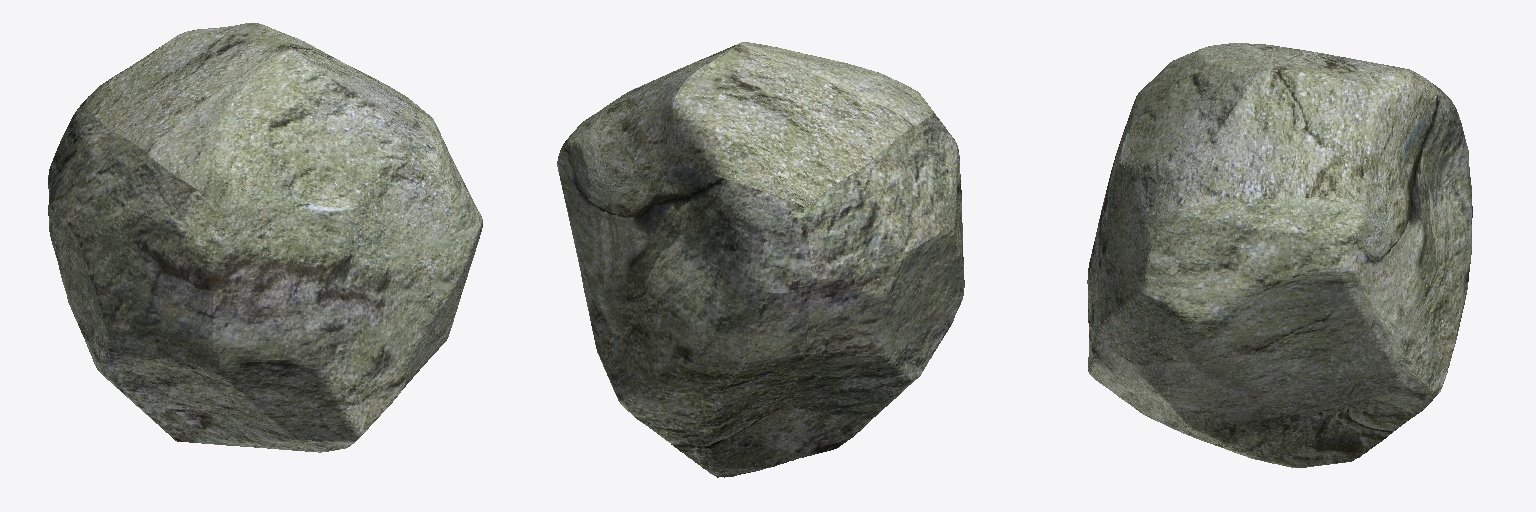
The picture shows the model from 3 angles: view 1: azimuth 30°, elevation 25°; view 2: azimuth 150°, elevation 25°; view 3: azimuth 270°, elevation 25°; orthographic projection.
Parts seen in each view (by area): view 1: ZBrush_defualt_group; view 2: ZBrush_defualt_group; view 3: ZBrush_defualt_group.
Part boxes in pixels (x1,y1,x2,y2): ZBrush_defualt_group: (48, 23, 482, 452); ZBrush_defualt_group: (557, 42, 964, 477); ZBrush_defualt_group: (1087, 43, 1472, 467).
Bounding box in the file's own units: 1.1 × 1.17 × 1.01.
1 materials, 1 textured.